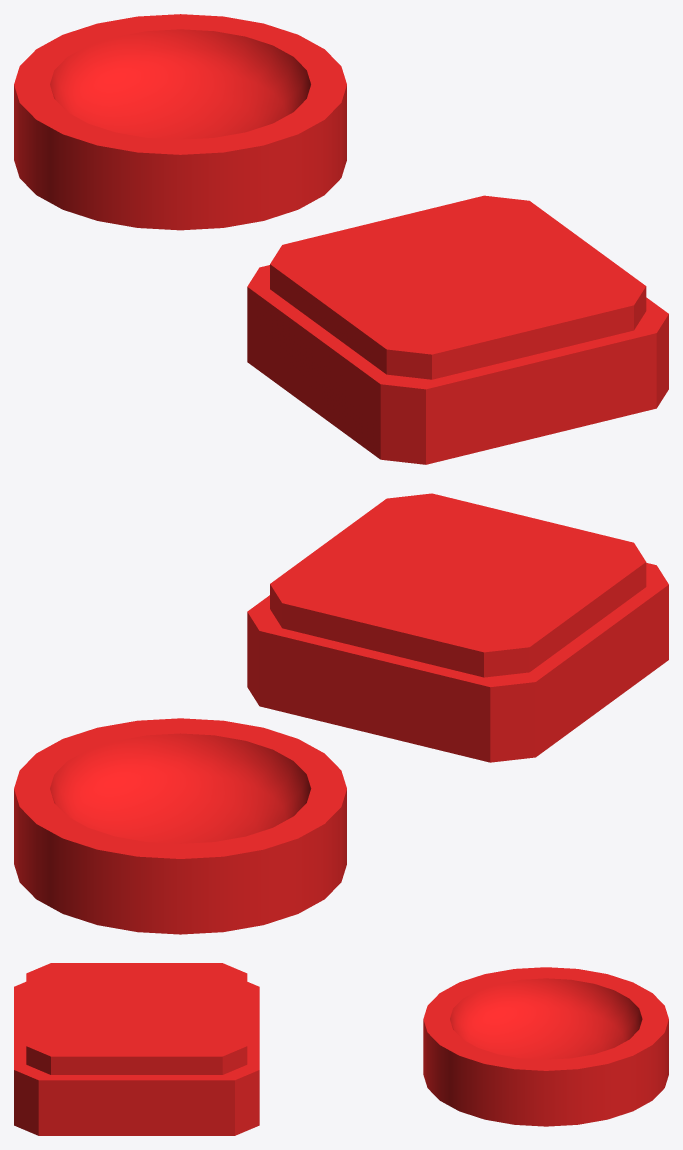
File: Splitter_1.obj
3 renders of one model, top to bottom at view 1: azimuth 30°, elevation 25°; view 2: azimuth 150°, elevation 25°; view 3: azimuth 270°, elevation 25°, orthographic. The views are drawn at different scales.
Visible parts, largest first — view 1: Handle, Output1; view 2: Handle, Output1; view 3: Handle, Output1.
Part boxes in pixels (bbox=[...]): Handle: bbox=[247, 195, 668, 464]; Output1: bbox=[14, 14, 346, 230]; Handle: bbox=[247, 493, 668, 762]; Output1: bbox=[14, 718, 346, 934]; Handle: bbox=[14, 963, 259, 1135]; Output1: bbox=[423, 967, 668, 1126].
Bounding box in the file's own units: 0.6 × 0.2 × 1.6.
